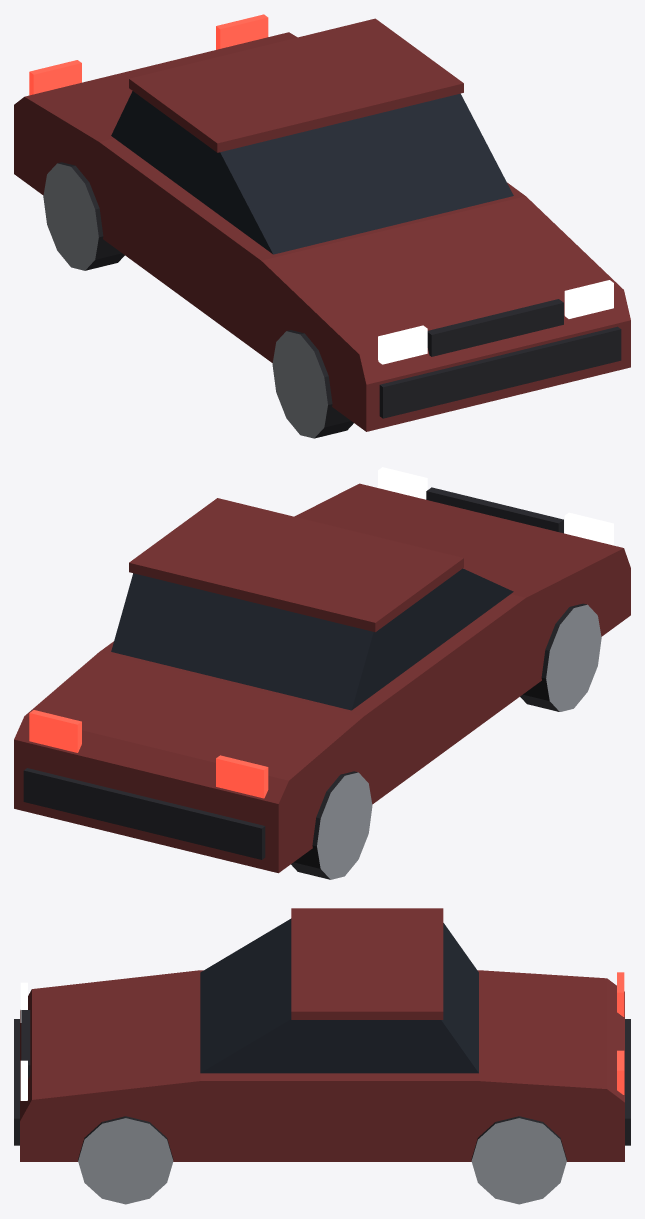
Rendered from sedan_maroon.glb.
The picture shows the model from 3 angles, top to bottom: view 1: azimuth 30°, elevation 25°; view 2: azimuth 150°, elevation 25°; view 3: azimuth 270°, elevation 25°; orthographic projection. The views are drawn at different scales.
Visible parts, largest first — view 1: sedan_maroon, wheel_FR, wheel_RR; view 2: sedan_maroon, wheel_FR, wheel_RR; view 3: sedan_maroon, wheel_FL, wheel_RL.
Part boxes in pixels (left/top/right/bottom): sedan_maroon: left=14, top=14, right=630, bottom=431; wheel_FR: left=272, top=330, right=353, bottom=438; wheel_RR: left=43, top=162, right=124, bottom=270; sedan_maroon: left=14, top=467, right=630, bottom=873; wheel_FR: left=520, top=603, right=601, bottom=711; wheel_RR: left=291, top=771, right=372, bottom=879; sedan_maroon: left=14, top=908, right=630, bottom=1161; wheel_FL: left=78, top=1116, right=173, bottom=1204; wheel_RL: left=471, top=1116, right=566, bottom=1204.
Bounding box in the file's own units: 1.82 × 1.38 × 4.14.
